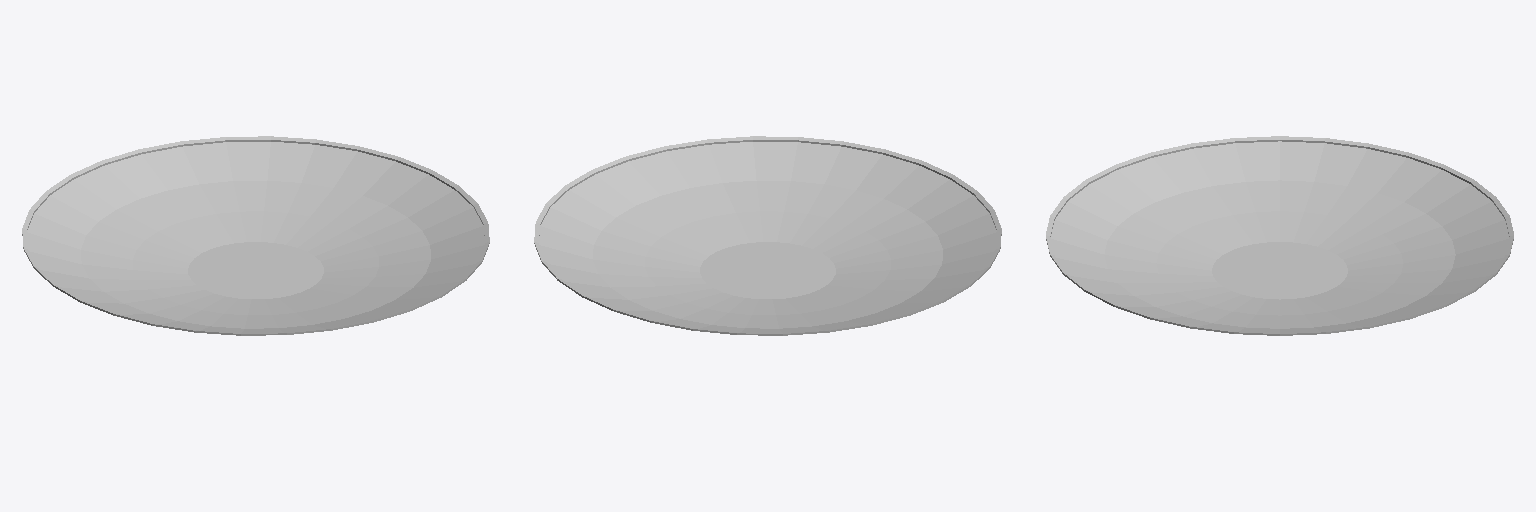
File: Saucer.obj
The picture shows the model from 3 angles: view 1: azimuth 30°, elevation 25°; view 2: azimuth 150°, elevation 25°; view 3: azimuth 270°, elevation 25°; orthographic projection.
Visible parts, largest first — view 1: Цилиндр; view 2: Цилиндр; view 3: Цилиндр.
Part boxes in pixels (x1,y1,x2,y2): Цилиндр: (22, 136, 489, 335); Цилиндр: (534, 136, 1001, 335); Цилиндр: (1046, 136, 1513, 335).
Size of the model in its own units: 0.2131 by 0.0209 by 0.2131.